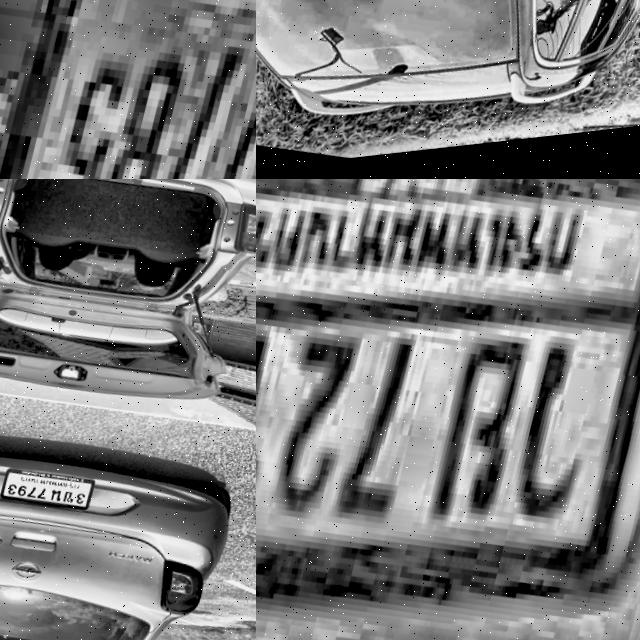license-plate: (256, 179, 640, 640), (0, 0, 256, 179), (0, 461, 96, 534)
